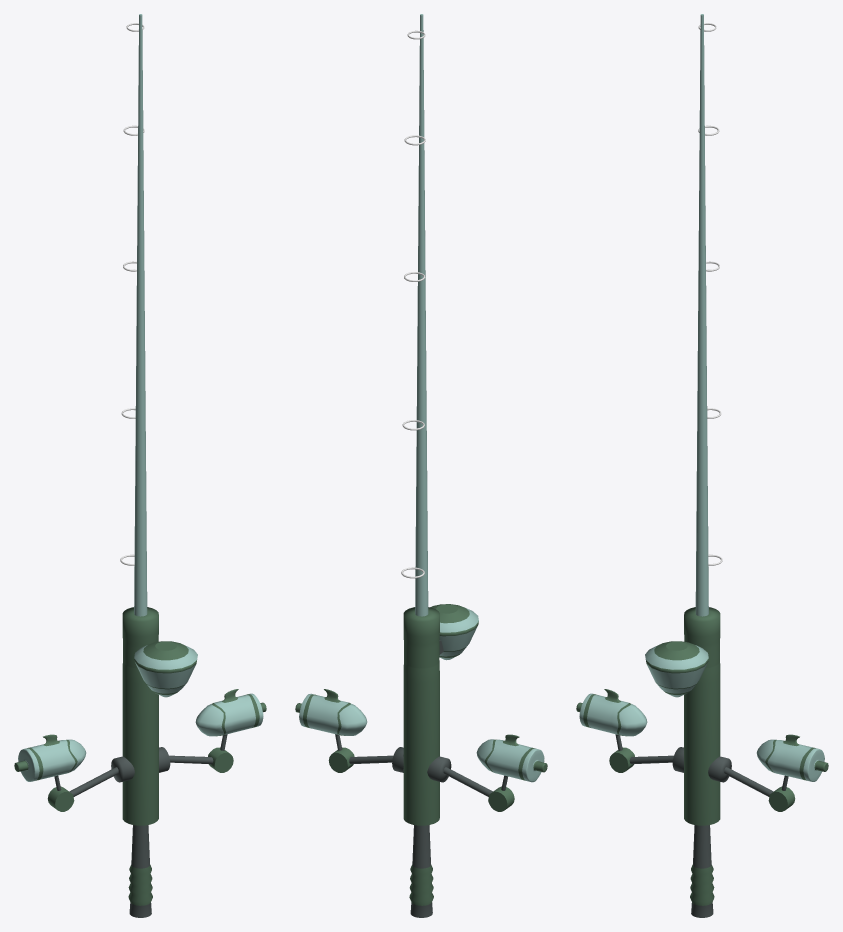
The model's file is Rod (2).fbx.
3 views of the same model, side by side, from view 1: azimuth 30°, elevation 25°; view 2: azimuth 150°, elevation 25°; view 3: azimuth 330°, elevation 25° (orthographic).
Visible parts, largest first — view 1: MainRod, pCube1, pCylinder4, pCylinder2, pCylinder3; view 2: MainRod, pCube1, pCylinder4, pCylinder2, pCylinder3; view 3: MainRod, pCube1, pCylinder4, pCylinder2, pCylinder3.
Part boxes in pixels (x1=…): MainRod: x1=122, y1=14, x2=158, y2=917; pCube1: x1=14, y1=689, x2=266, y2=790; pCylinder4: x1=134, y1=641, x2=197, y2=697; pCylinder2: x1=69, y1=747, x2=213, y2=796; pCylinder3: x1=47, y1=747, x2=233, y2=811; MainRod: x1=403, y1=14, x2=439, y2=917; pCube1: x1=295, y1=689, x2=547, y2=790; pCylinder4: x1=430, y1=604, x2=478, y2=660; pCylinder2: x1=349, y1=747, x2=492, y2=796; pCylinder3: x1=328, y1=747, x2=514, y2=811; MainRod: x1=684, y1=14, x2=720, y2=917; pCube1: x1=576, y1=689, x2=828, y2=790; pCylinder4: x1=645, y1=641, x2=708, y2=697; pCylinder2: x1=629, y1=747, x2=773, y2=796; pCylinder3: x1=609, y1=747, x2=795, y2=811.
Bounding box in the file's own units: 15.61 × 6.12 × 54.11.
